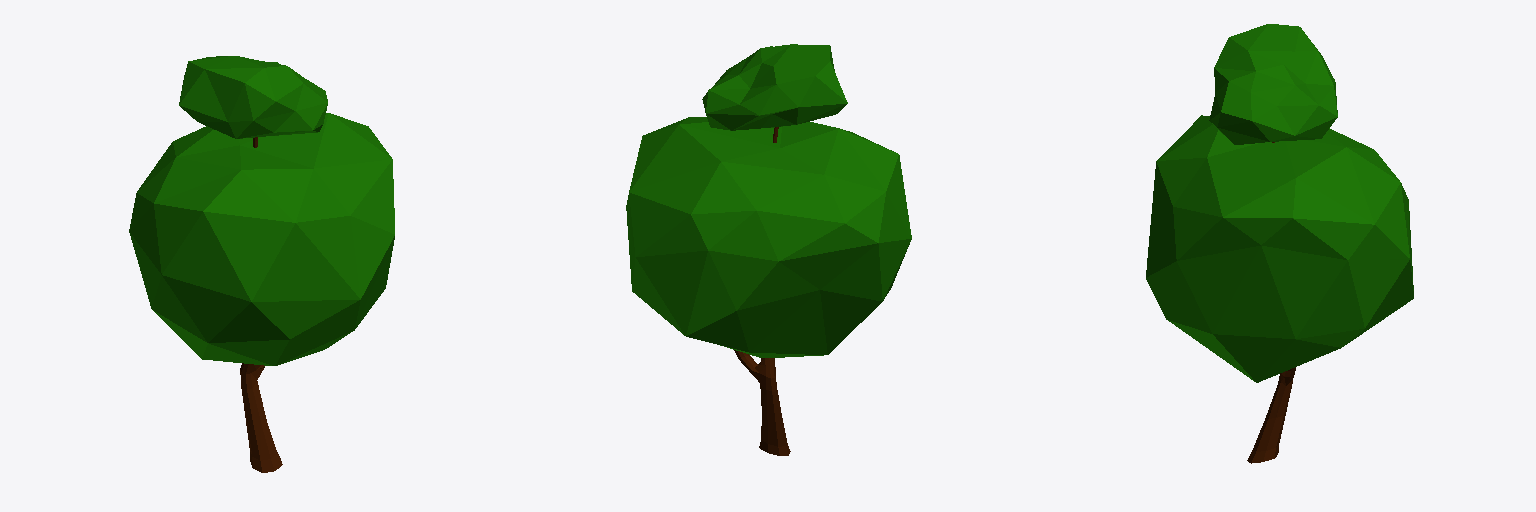
File: bush2.obj
3 views of the same model, side by side, from view 1: azimuth 30°, elevation 25°; view 2: azimuth 150°, elevation 25°; view 3: azimuth 270°, elevation 25° (orthographic).
Visible parts, largest first — view 1: Bush_2_Cube.001; view 2: Bush_2_Cube.001; view 3: Bush_2_Cube.001.
Part boxes in pixels (x1,y1,x2,y2): Bush_2_Cube.001: (129,56,394,472); Bush_2_Cube.001: (626,44,911,455); Bush_2_Cube.001: (1146,24,1413,463).
Bounding box in the file's own units: 1.55 × 2.54 × 1.51.